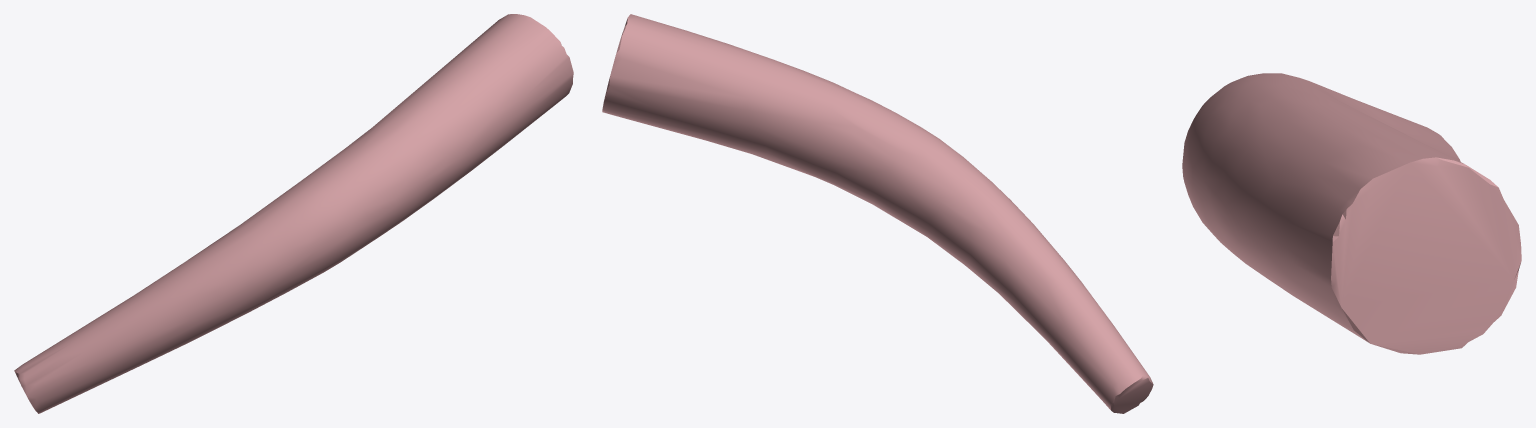
Rendered from fma68212_fj2510.glb.
3 views of the same model, side by side, from view 1: azimuth 30°, elevation 25°; view 2: azimuth 150°, elevation 25°; view 3: azimuth 270°, elevation 25° (orthographic). The views are drawn at different scales.
Visible parts, largest first — view 1: FMA68212_FJ2510; view 2: FMA68212_FJ2510; view 3: FMA68212_FJ2510.
Part boxes in pixels (box(x1,y1,x2,y2)): FMA68212_FJ2510: box(14, 14, 573, 413); FMA68212_FJ2510: box(602, 14, 1153, 413); FMA68212_FJ2510: box(1182, 73, 1521, 354).
Size of the model in its own units: 0.0243 by 0.0118 by 0.00663.
